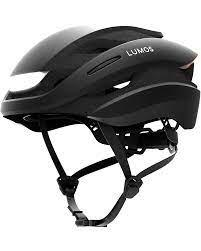helmet: (1, 26, 199, 128)
